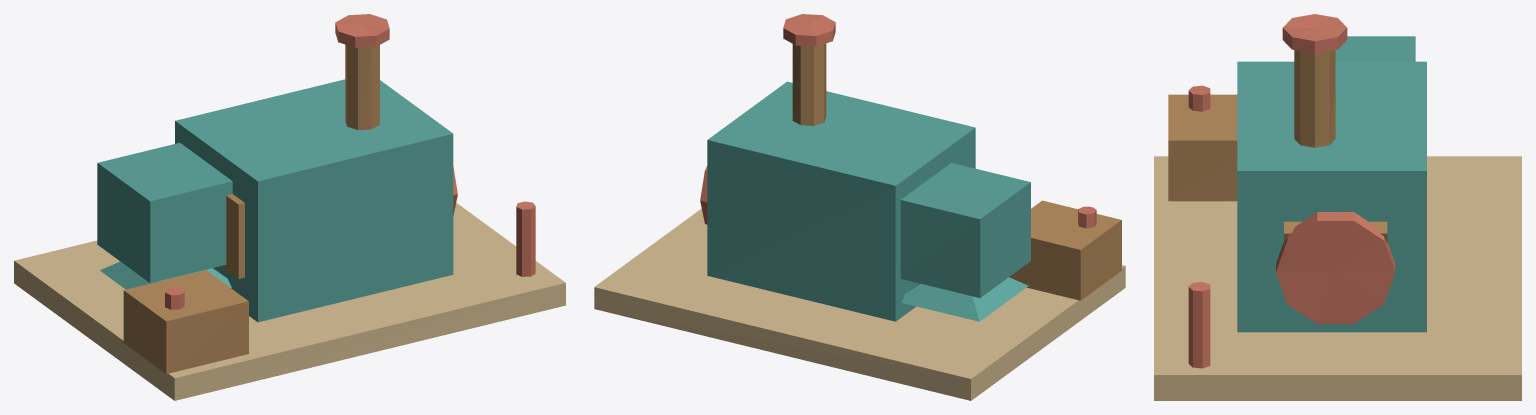
Rendered from Biomass-Generator.glb.
3 views of the same model, side by side, from view 1: azimuth 30°, elevation 25°; view 2: azimuth 150°, elevation 25°; view 3: azimuth 270°, elevation 25° (orthographic). The views are drawn at different scales.
Visible parts, largest first — view 1: biomass-generator-static-biomass-painted-green, biomass-generator-static-biomass-concrete, biomass-generator-static-biomass-wood-chip, biomass-generator-static-biomass-dark-mechanism, biomass-generator-static-biomass-service-orange; view 2: biomass-generator-static-biomass-painted-green, biomass-generator-static-biomass-concrete, biomass-generator-static-biomass-wood-chip, biomass-generator-static-biomass-dark-mechanism, biomass-generator-static-biomass-service-orange; view 3: biomass-generator-static-biomass-concrete, biomass-generator-static-biomass-painted-green, biomass-generator-static-biomass-service-orange, biomass-generator-static-biomass-wood-chip, biomass-generator-static-biomass-dark-mechanism.
Part boxes in pixels (x1,y1,x2,y2): biomass-generator-static-biomass-painted-green: [97, 79, 453, 322]; biomass-generator-static-biomass-concrete: [14, 203, 565, 400]; biomass-generator-static-biomass-wood-chip: [123, 270, 248, 373]; biomass-generator-static-biomass-dark-mechanism: [221, 44, 379, 278]; biomass-generator-static-biomass-service-orange: [165, 14, 535, 309]; biomass-generator-static-biomass-painted-green: [707, 81, 1030, 321]; biomass-generator-static-biomass-concrete: [594, 208, 1125, 400]; biomass-generator-static-biomass-wood-chip: [1009, 200, 1121, 300]; biomass-generator-static-biomass-dark-mechanism: [792, 43, 826, 125]; biomass-generator-static-biomass-service-orange: [700, 14, 1096, 228]; biomass-generator-static-biomass-concrete: [1154, 156, 1521, 400]; biomass-generator-static-biomass-painted-green: [1237, 36, 1426, 332]; biomass-generator-static-biomass-service-orange: [1188, 14, 1395, 368]; biomass-generator-static-biomass-wood-chip: [1168, 94, 1237, 201]; biomass-generator-static-biomass-dark-mechanism: [1284, 50, 1387, 243].
Bounding box in the file's own units: 4.53 × 2.87 × 3.2.
